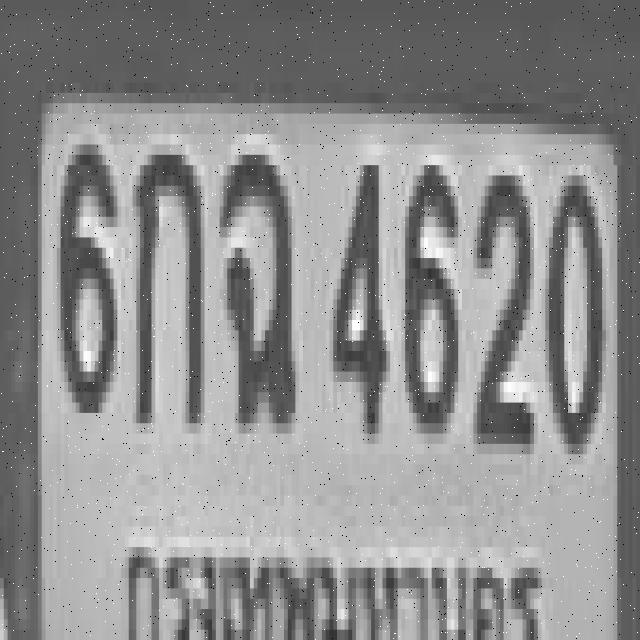0: (546, 160, 598, 438)
10GorGai: (132, 140, 200, 418)
18ChorChing: (220, 140, 292, 418)
2: (472, 160, 528, 428)
4: (330, 155, 382, 423)
6: (56, 134, 114, 402), (402, 150, 454, 418)
